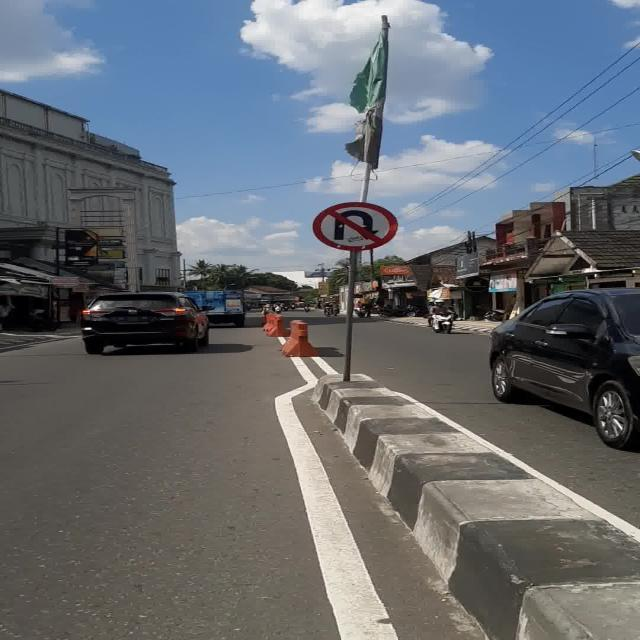Dilarang Putar Balik: (312, 202, 398, 252)
